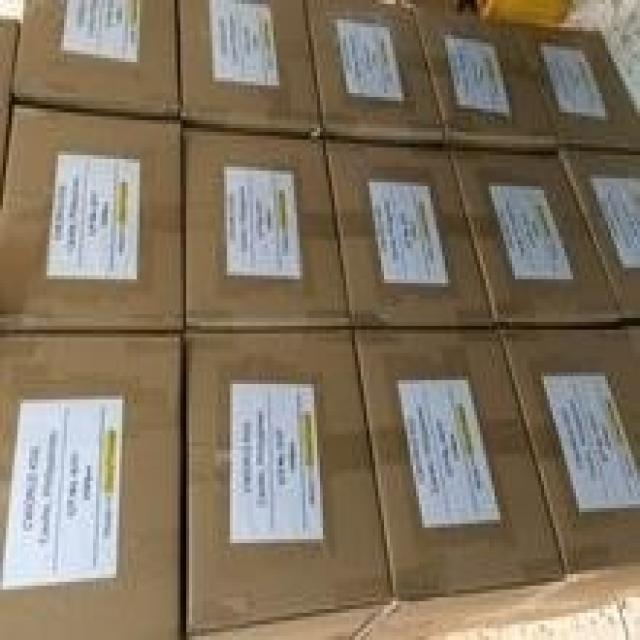box: (353, 326, 565, 636), (183, 330, 391, 636), (0, 330, 184, 636), (1, 107, 185, 332), (500, 330, 637, 626), (185, 127, 349, 330), (326, 141, 491, 328), (449, 151, 621, 330), (410, 7, 559, 150), (12, 3, 182, 126), (304, 3, 446, 145), (178, 3, 319, 137), (515, 22, 637, 149), (559, 150, 637, 328), (628, 318, 637, 353)
